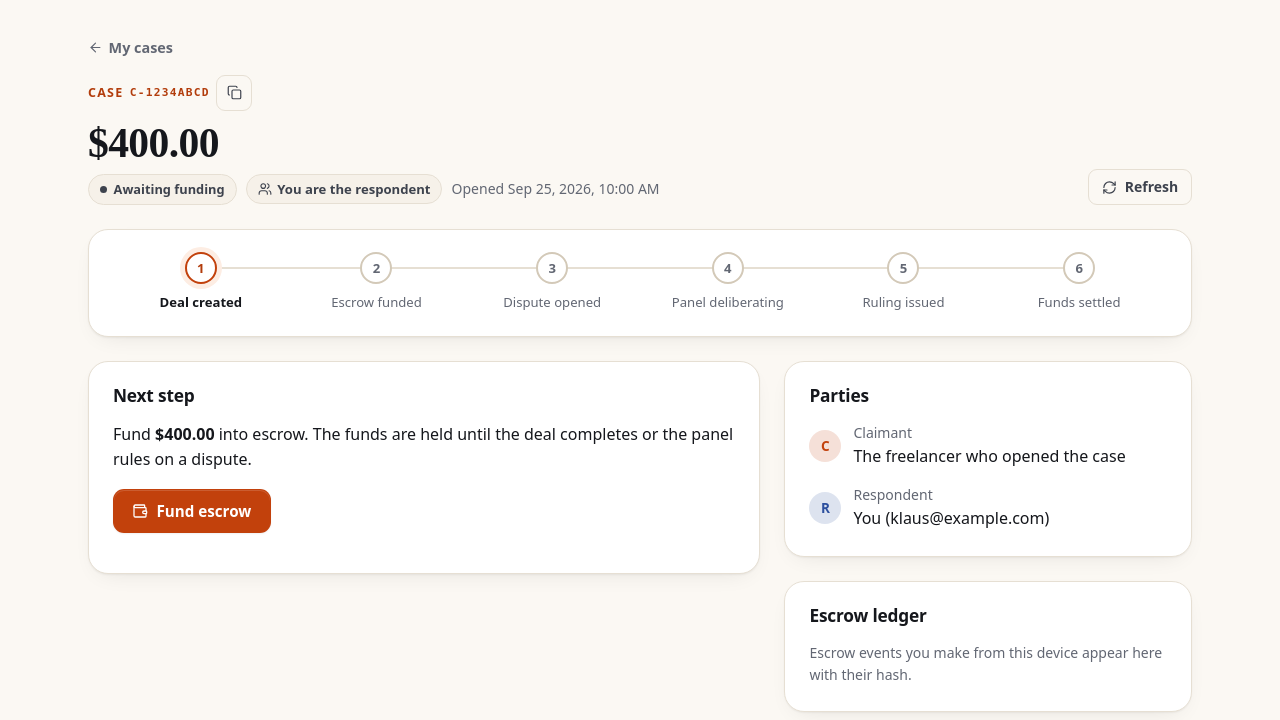
Test: actions go through a confirmation › fund: cancel does nothing, confirm funds once and records the receipt
Click the button with test id "action-fund": (192, 511) [113, 489, 271, 533]
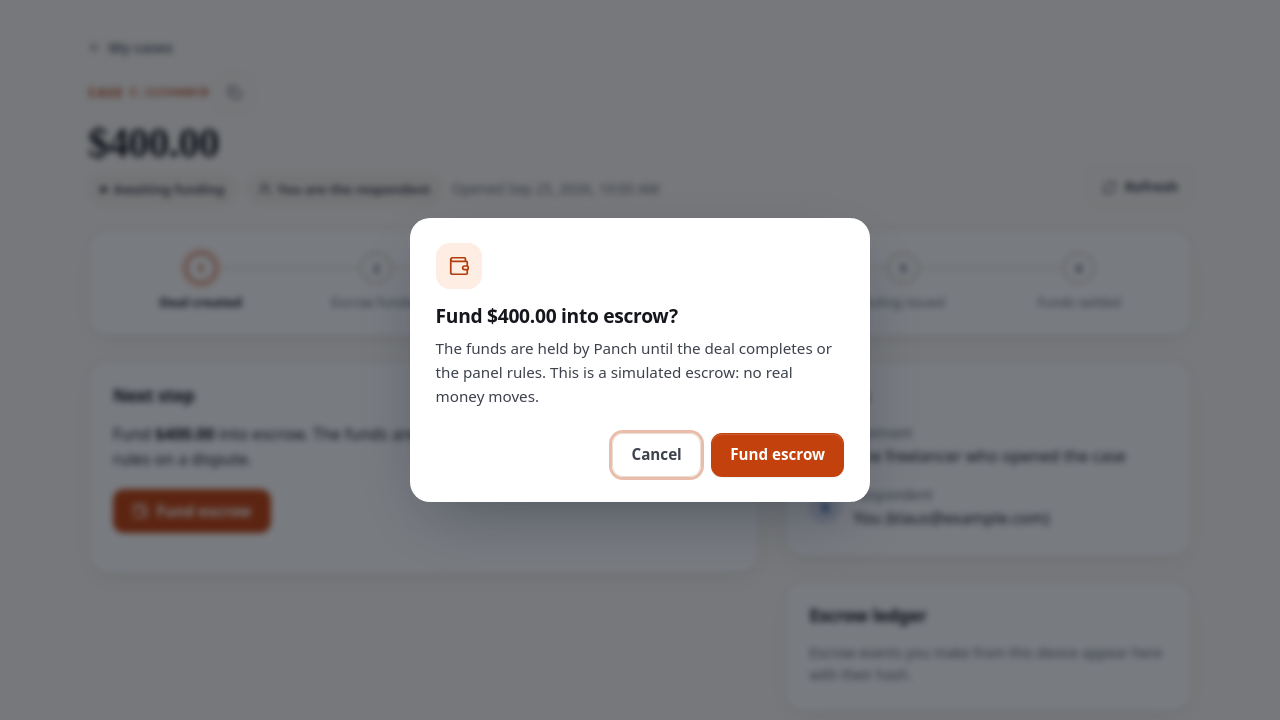
Now the dialog "Fund $400.00 into escrow" is shown, box [410, 218, 870, 502]
Click the button "Cancel": (657, 454) [612, 432, 701, 476]
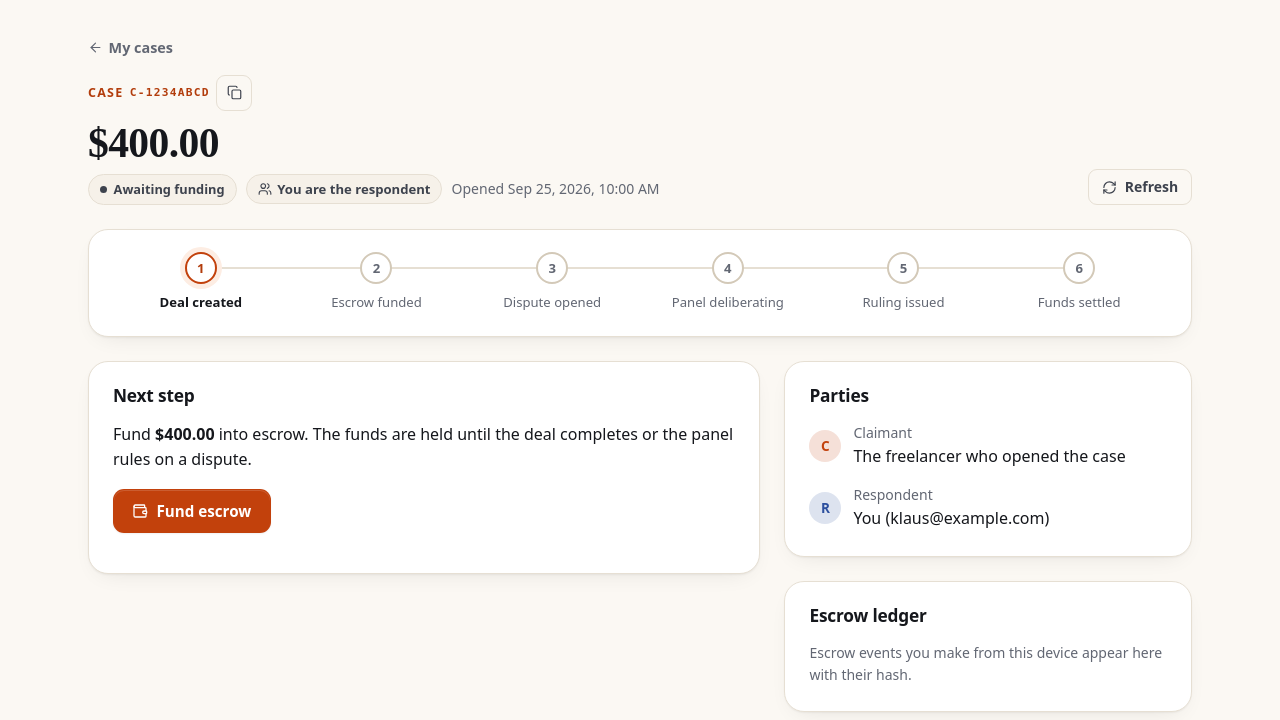
Click the button with test id "action-fund": (192, 511) [113, 489, 271, 533]
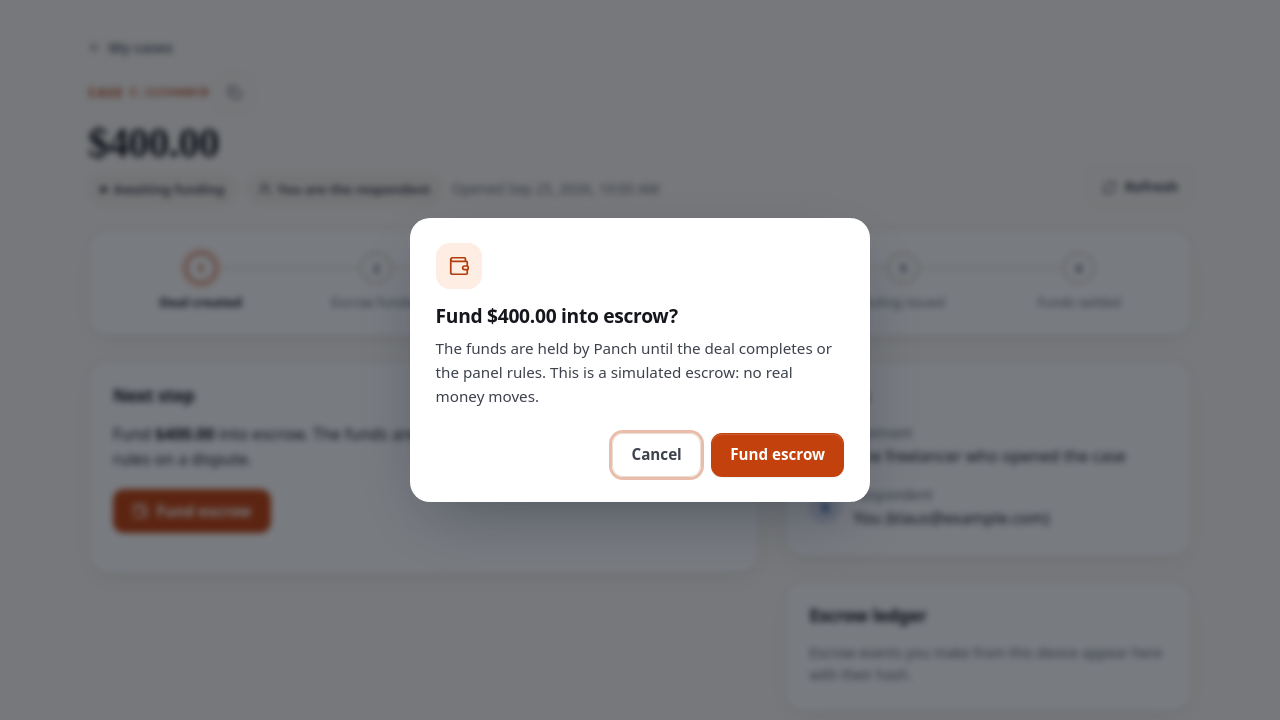
Double-click the button with test id "dialog-confirm": (778, 454) [711, 432, 844, 476]
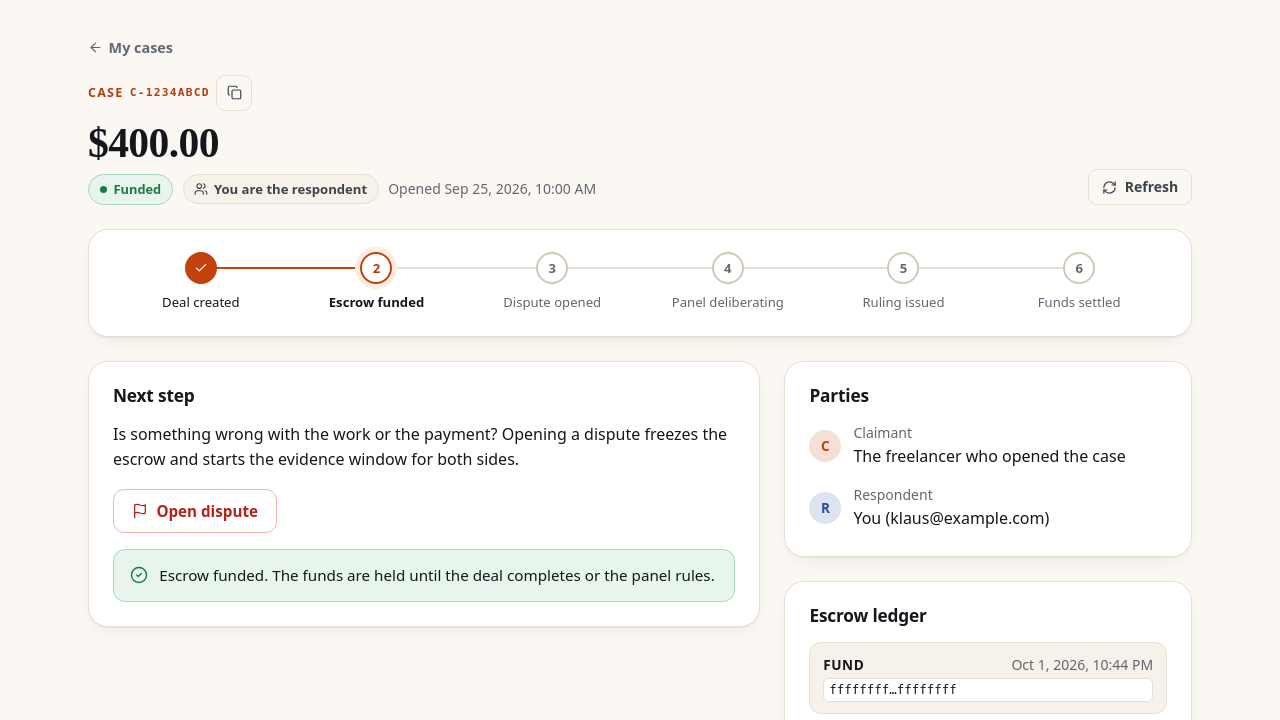
Now the text "The funds are held until the deal completes" is shown, box [159, 566, 715, 586]
Now the list with test id "receipts" shows "FUND", box [823, 655, 864, 674]
